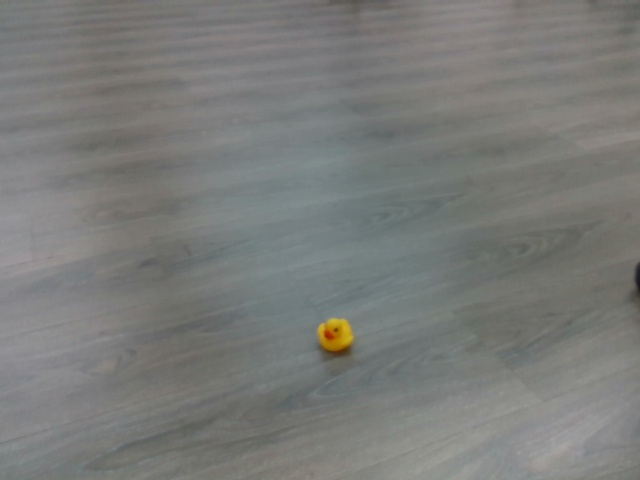duck: (315, 315, 356, 352)
